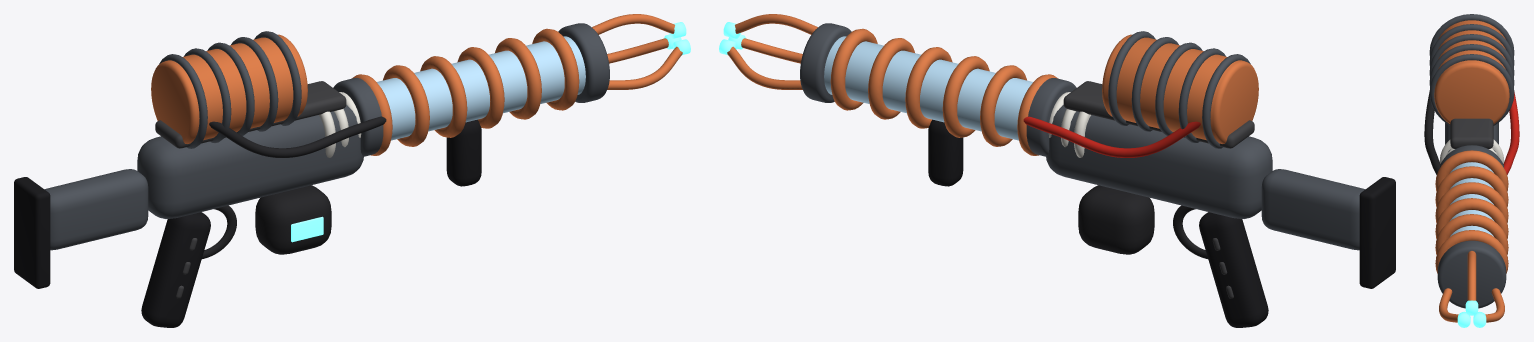
File: tesla.glb
3 views of the same model, side by side, from view 1: azimuth 30°, elevation 25°; view 2: azimuth 150°, elevation 25°; view 3: azimuth 270°, elevation 25° (orthographic). The views are drawn at different scales.
Parts seen in each view (by area): view 1: tesla; view 2: tesla; view 3: tesla.
Part boxes in pixels (<box>): tesla: <box>14,14,690,327</box>; tesla: <box>719,14,1395,327</box>; tesla: <box>1424,14,1519,327</box>.
Size of the model in its own units: 0.617 by 0.2374 by 0.0884.
